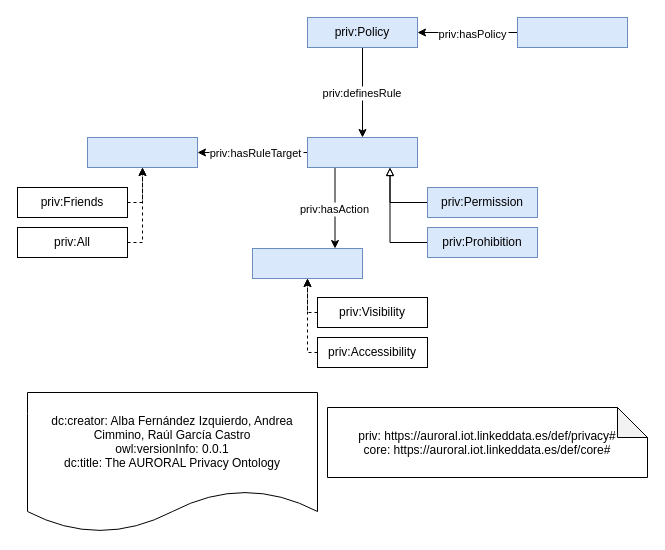
Image size: 665x550. Some labels were removed from this diagram. Each missing label, with the box of its shape:
core:Item: (516, 16, 628, 48)
priv:Action: (252, 248, 362, 278)
priv:Rule: (306, 136, 418, 168)
priv:RuleTarget: (86, 136, 198, 168)
